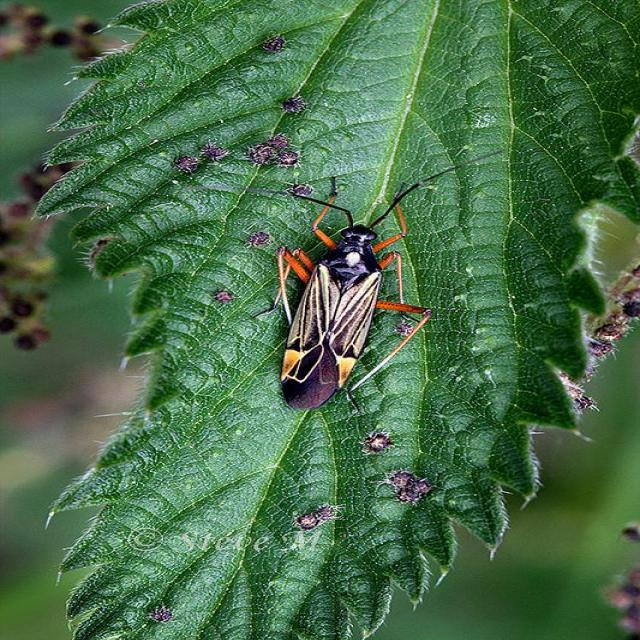Miridae-Adult-: (251, 165, 462, 412)
